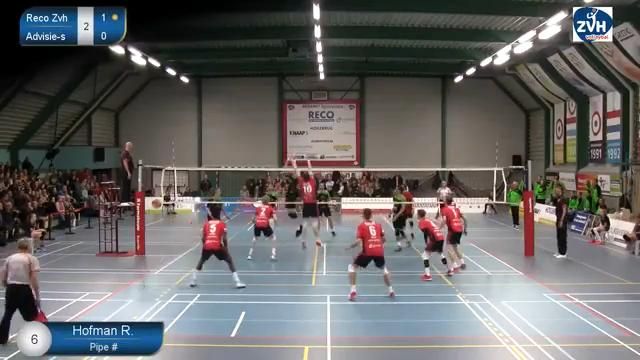attacco: (314, 166, 341, 236)
muro: (285, 152, 329, 254)
